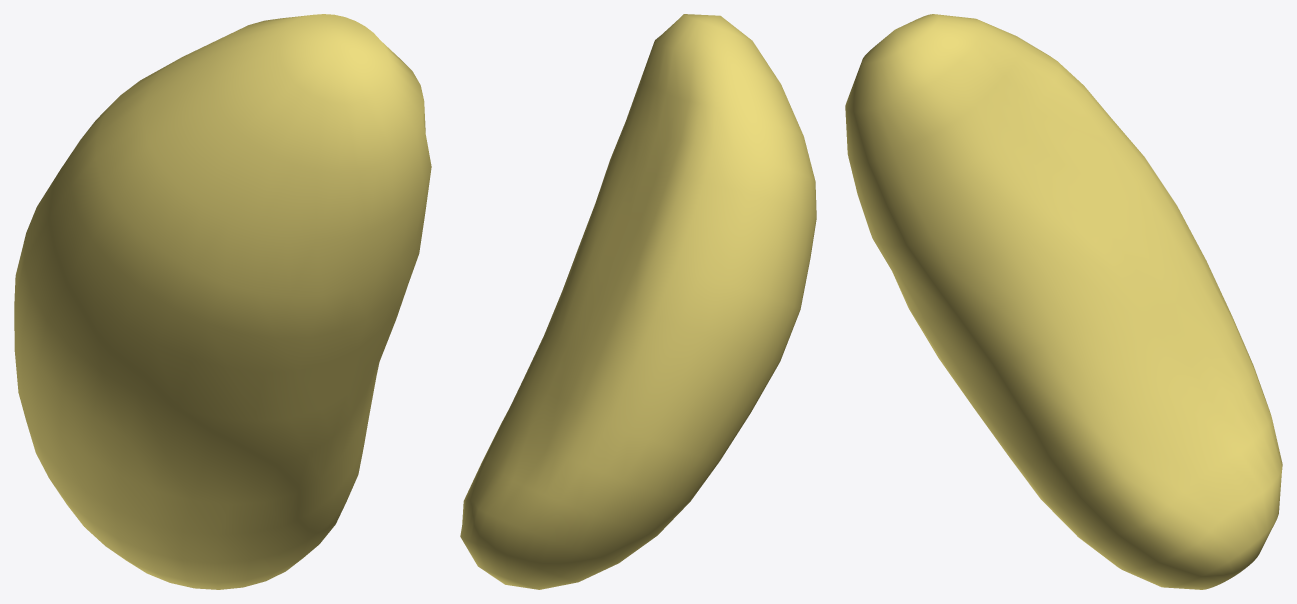
File: olive-r.glb
3 views of the same model, side by side, from view 1: azimuth 30°, elevation 25°; view 2: azimuth 150°, elevation 25°; view 3: azimuth 270°, elevation 25° (orthographic). The views are drawn at different scales.
Visible parts, largest first — view 1: Olive.r; view 2: Olive.r; view 3: Olive.r.
Boxes of the visible parts, bbox=[...] form: Olive.r: bbox=[14, 14, 431, 589]; Olive.r: bbox=[460, 14, 816, 589]; Olive.r: bbox=[845, 14, 1282, 589].
Size of the model in its own units: 0.00773 by 0.0139 by 0.0103.
